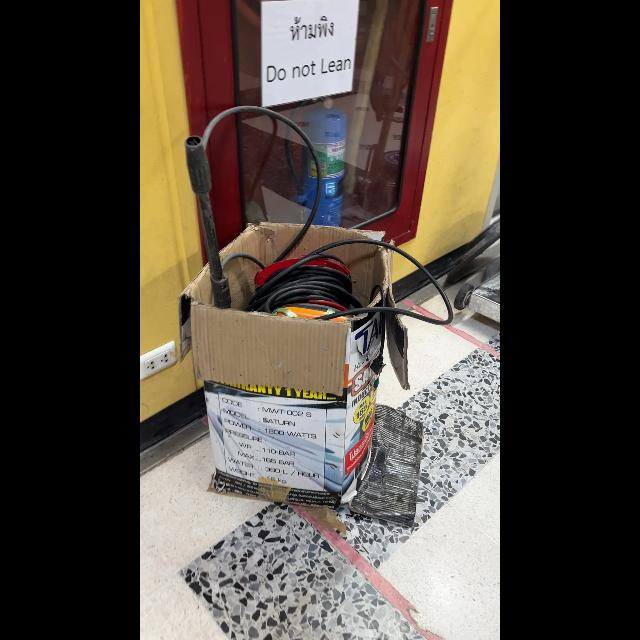cardboard_box: (175, 230, 412, 516)
